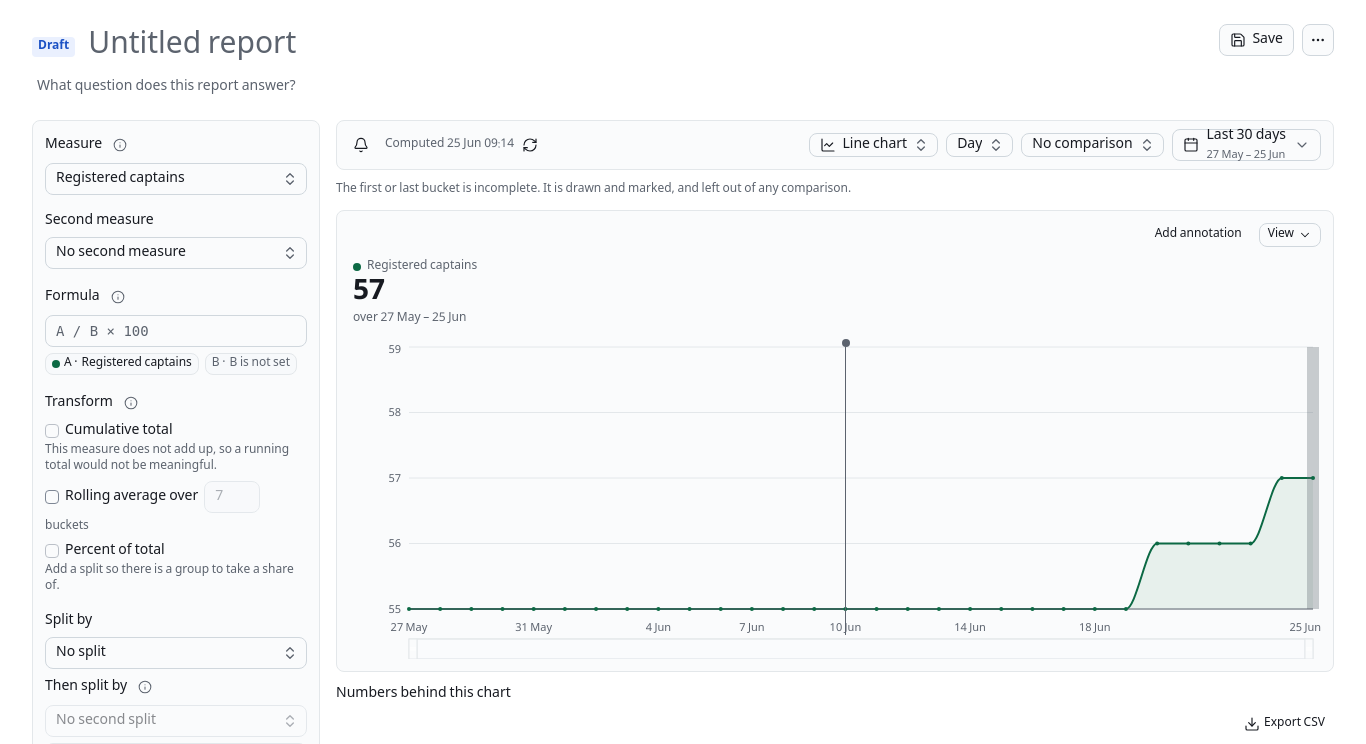
Test: the builder can hand someone the question it is showing › confirms with a toast naming what was copied (R9, R10)
Click the button named "More actions" at (1318, 40), box 1302,24 -> 1334,56
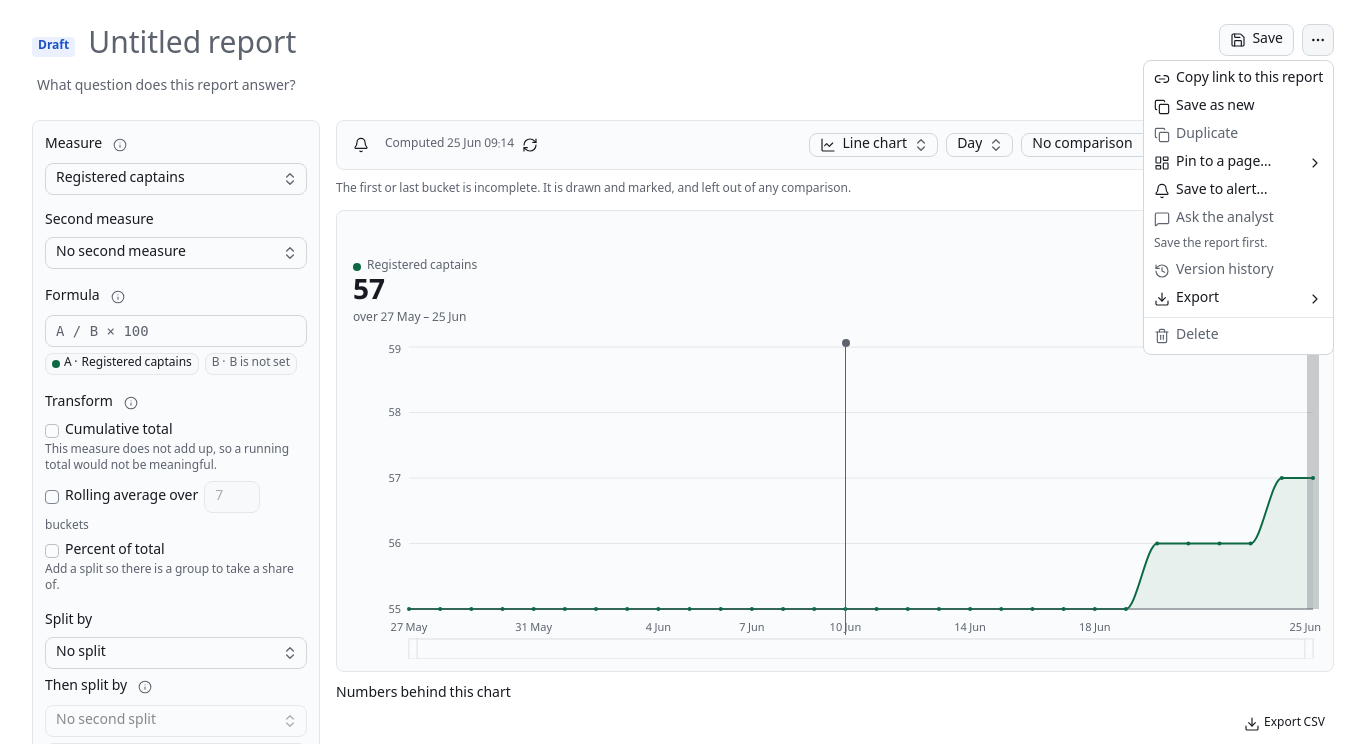
Click the menu item "Copy link to this report" at (1239, 79), box 1148,65 -> 1329,93
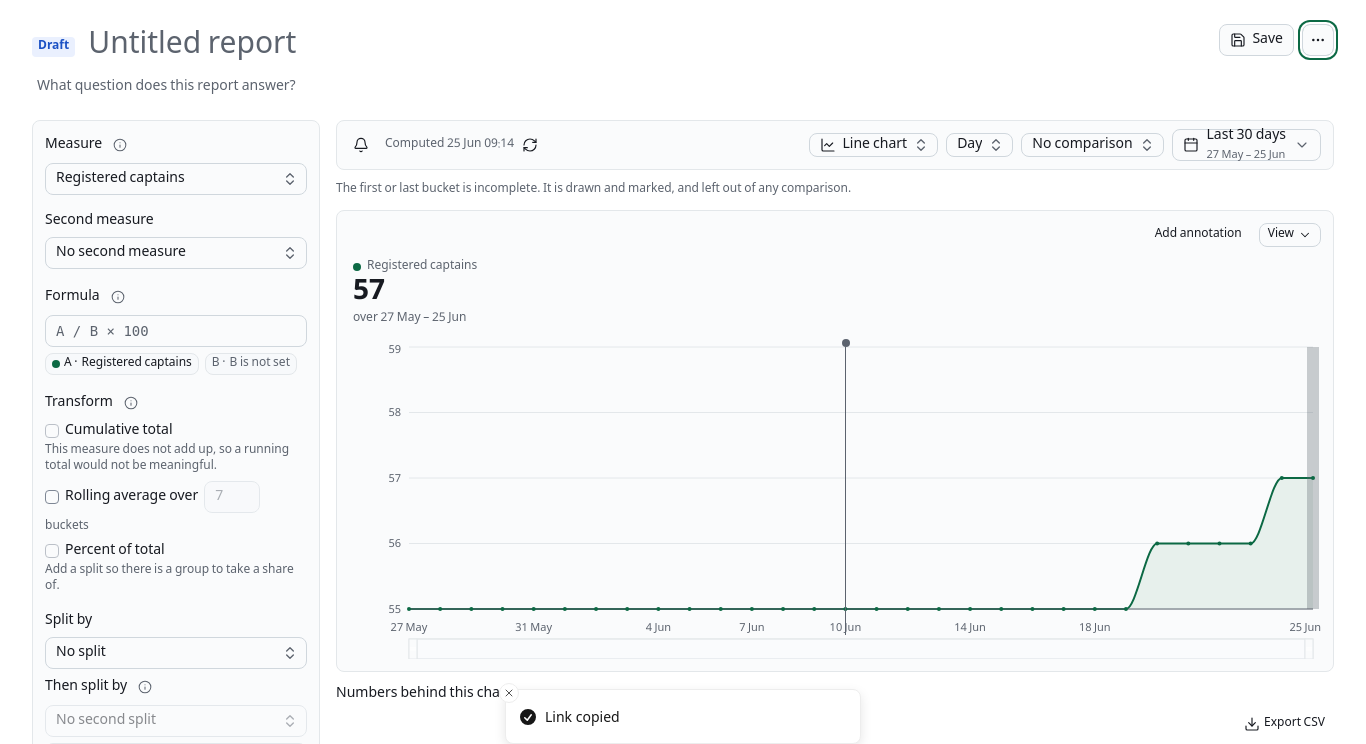
Expected: the text "Link copied" is shown, 545,706 -> 620,727
